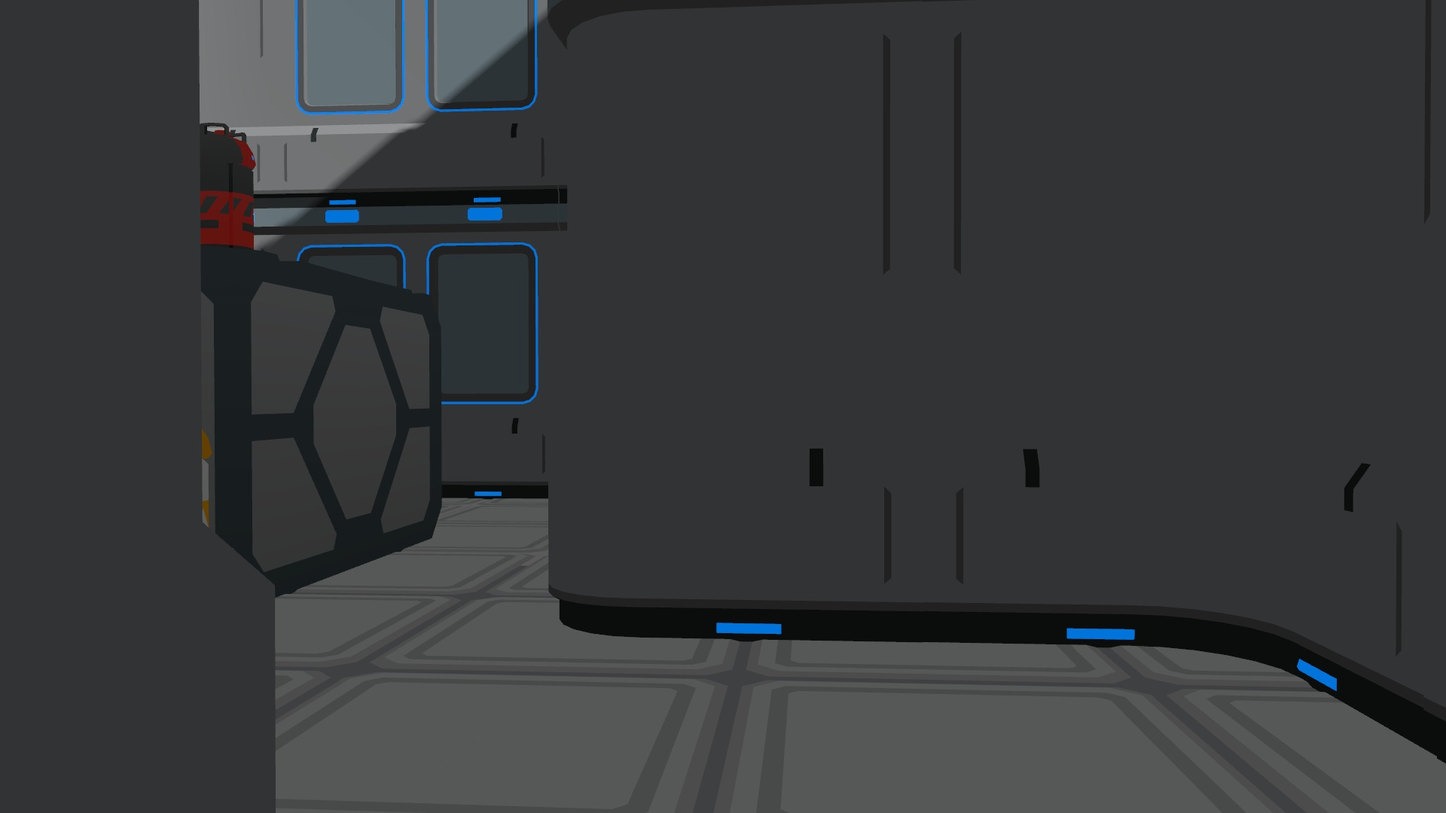red_barrel: (195, 117, 259, 253)
yellow_barrel: (203, 426, 213, 533)
